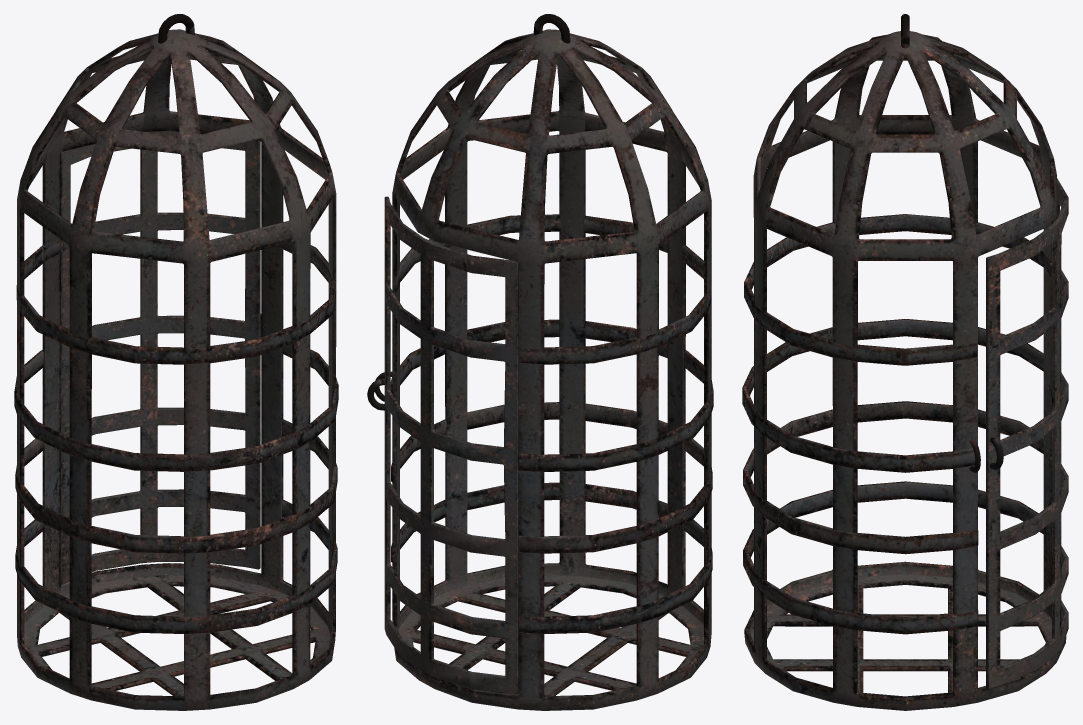
3 views of the same model, side by side, from view 1: azimuth 30°, elevation 25°; view 2: azimuth 150°, elevation 25°; view 3: azimuth 270°, elevation 25° (orthographic).
Parts seen in each view (by area): view 1: klatka001, klatka001_drzwi; view 2: klatka001, klatka001_drzwi; view 3: klatka001, klatka001_drzwi.
Boxes of the visible parts, left/top/right/bottom form: klatka001: left=14, top=14, right=338, bottom=710; klatka001_drzwi: left=60, top=130, right=261, bottom=584; klatka001: left=374, top=14, right=713, bottom=710; klatka001_drzwi: left=367, top=196, right=518, bottom=694; klatka001: left=742, top=14, right=1066, bottom=710; klatka001_drzwi: left=986, top=178, right=1068, bottom=689.
Size of the model in its own units: 0.9837 by 2.09 by 0.9821.
1 material, 1 textured.
